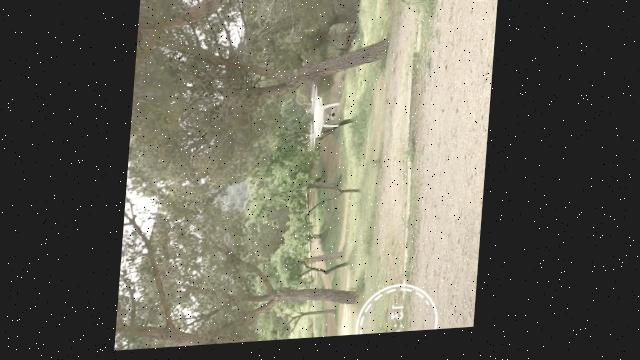drone: (305, 83, 341, 158)
